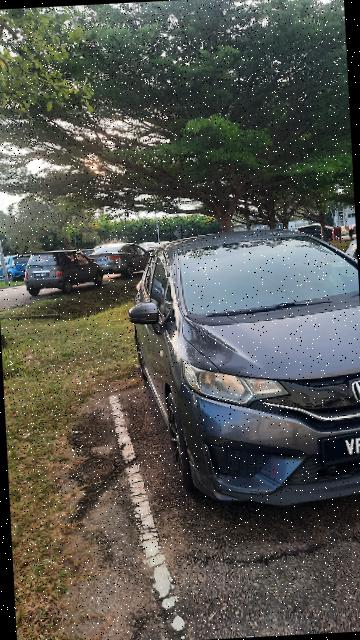License_Plate: (319, 433, 360, 468)
car: (124, 220, 360, 528)
